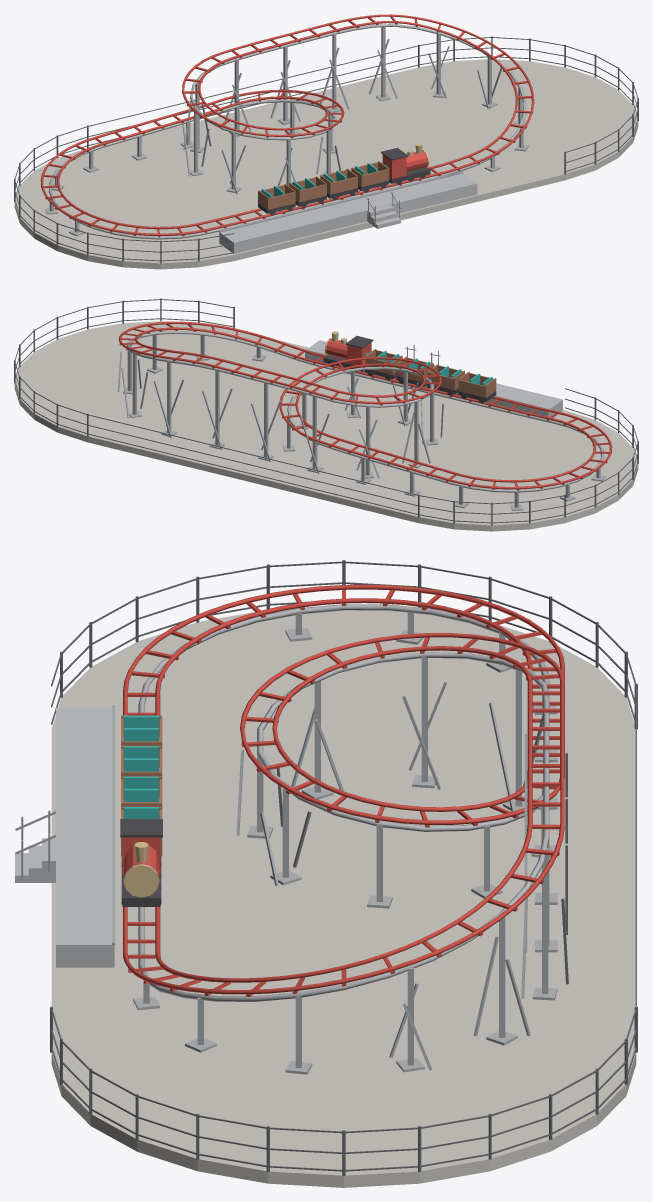
The picture shows the model from 3 angles, top to bottom: view 1: azimuth 30°, elevation 25°; view 2: azimuth 150°, elevation 25°; view 3: azimuth 270°, elevation 25°; orthographic projection. The views are drawn at different scales.
Visible parts, largest first — view 1: base, car0, car4, car3, car1, car2; view 2: base, car0, car4, car3, car1, car2; view 3: base, car0, car3, car2, car4.
Boxes of the visible parts, <box> form: base: <box>14,14,638,269</box>; car0: <box>381,143,430,184</box>; car4: <box>258,184,295,215</box>; car3: <box>289,176,326,207</box>; car1: <box>351,161,389,192</box>; car2: <box>320,168,357,199</box>; base: <box>14,298,638,531</box>; car0: <box>323,331,373,372</box>; car4: <box>458,372,496,403</box>; car3: <box>427,364,464,395</box>; car1: <box>365,349,402,380</box>; car2: <box>396,356,433,387</box>; base: <box>15,560,637,1187</box>; car0: <box>120,819,162,906</box>; car3: <box>121,745,162,777</box>; car2: <box>121,776,162,808</box>; car4: <box>121,715,162,747</box>.
Bounding box in the file's own units: 30.06 × 4.43 × 13.84.
